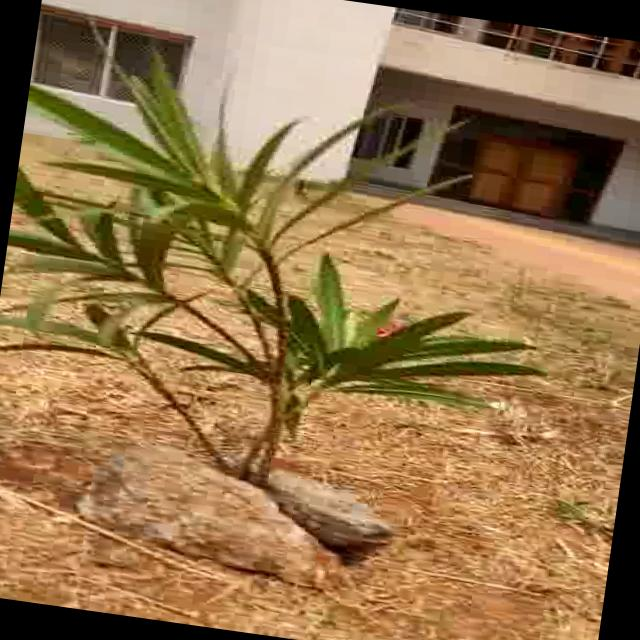Oleander: (4, 44, 574, 501)
